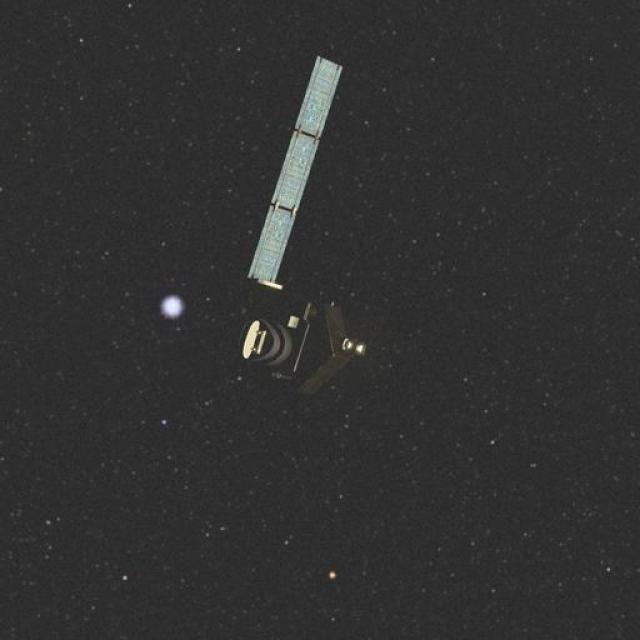earth_observation_sat_1: (222, 46, 378, 394)
